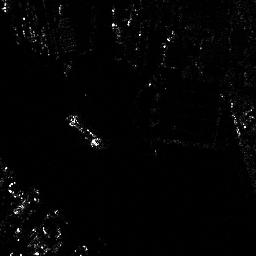ship: (63, 111, 104, 151)
